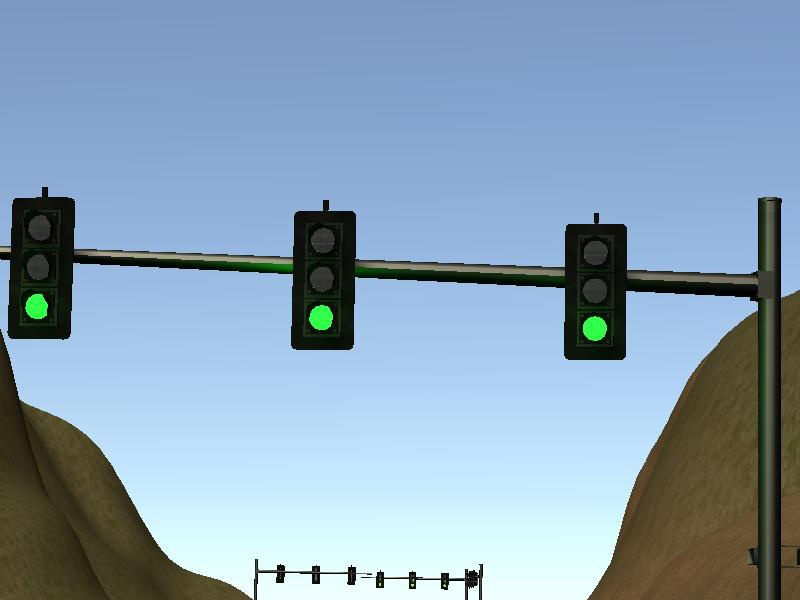Green: (6, 195, 76, 341), (288, 209, 358, 355), (561, 221, 629, 362), (437, 571, 451, 592), (375, 568, 386, 588), (406, 571, 417, 591)
